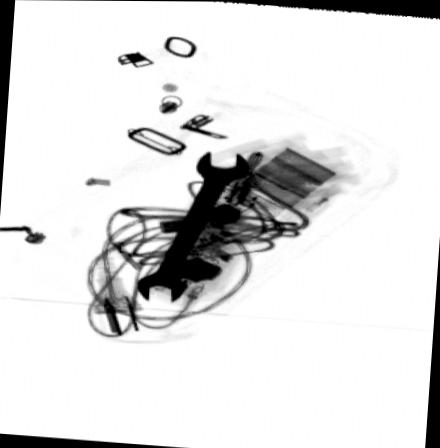Wrench: (135, 147, 251, 305)
